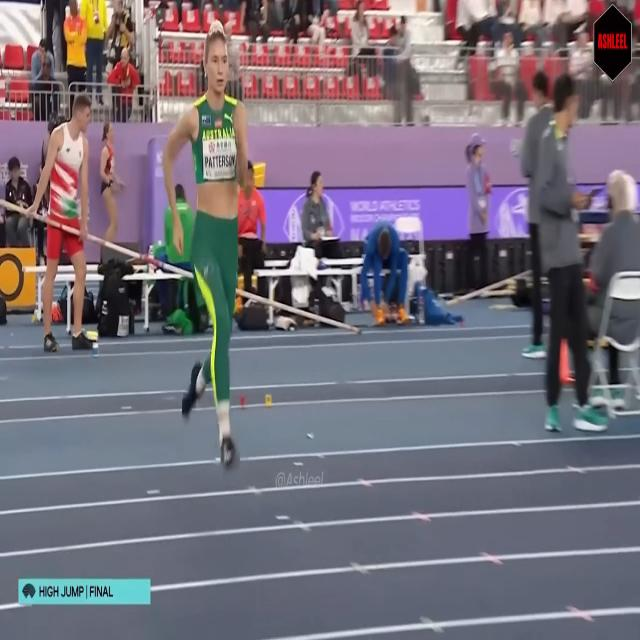run: (163, 16, 247, 467)
